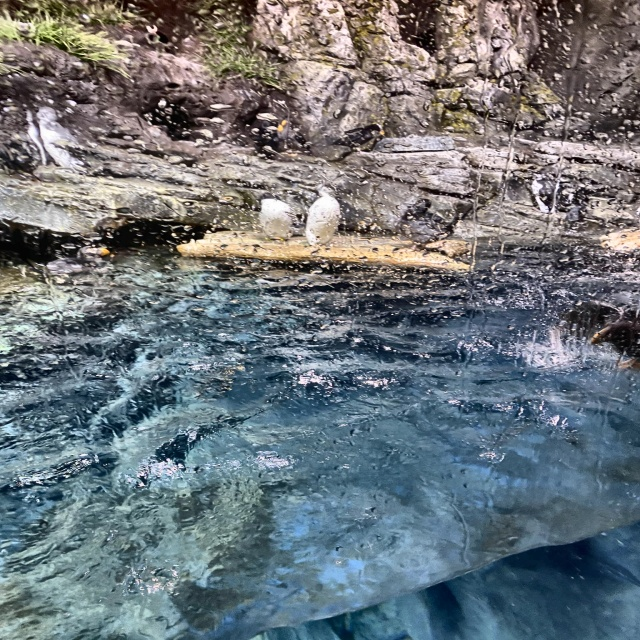puffin: (560, 293, 639, 370), (22, 105, 98, 175), (396, 198, 456, 257), (299, 182, 348, 254), (40, 241, 116, 283), (255, 189, 307, 248), (329, 121, 389, 156), (265, 115, 310, 159), (526, 169, 565, 216)
